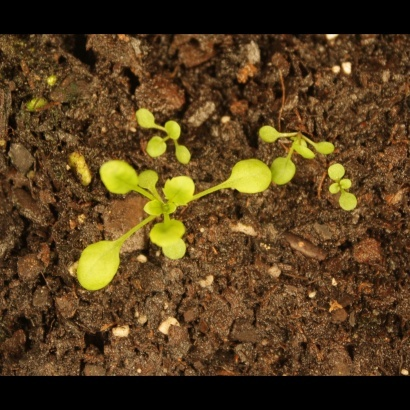leaf: (67, 236, 128, 299), (224, 157, 277, 199), (93, 161, 139, 198), (159, 172, 199, 209), (146, 219, 193, 248), (266, 153, 299, 188), (254, 119, 284, 149), (159, 236, 189, 265), (133, 107, 160, 134), (291, 137, 317, 165), (312, 133, 338, 160), (144, 134, 170, 159), (136, 166, 162, 190), (170, 144, 197, 167), (164, 119, 187, 142), (326, 161, 349, 184), (336, 191, 359, 214), (320, 176, 343, 199), (340, 171, 363, 194)
